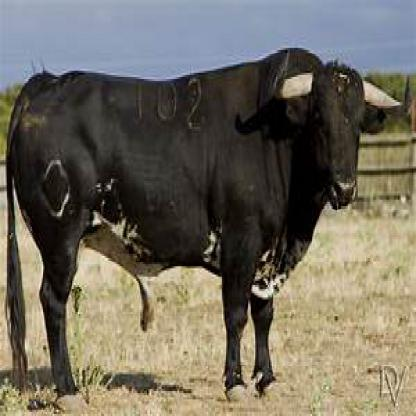cow: (6, 48, 402, 399)
